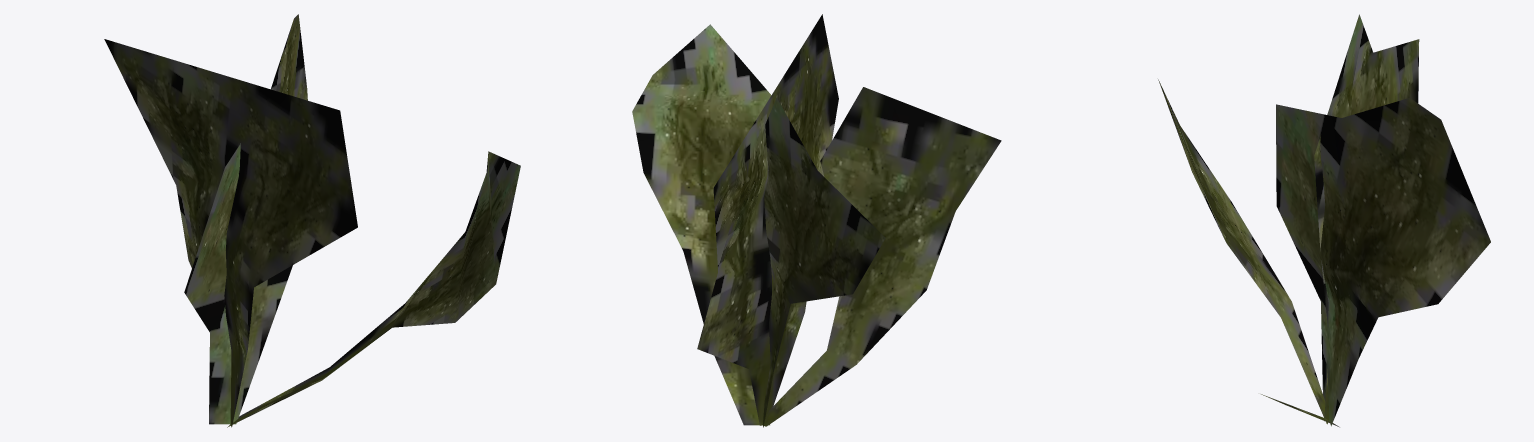
The model's file is Seaweed_B2-transformed.glb.
3 views of the same model, side by side, from view 1: azimuth 30°, elevation 25°; view 2: azimuth 150°, elevation 25°; view 3: azimuth 270°, elevation 25° (orthographic). The views are drawn at different scales.
Parts seen in each view (by area): view 1: Seaweed_B2; view 2: Seaweed_B2; view 3: Seaweed_B2.
Part boxes in pixels (x1,y1,x2,y2): Seaweed_B2: [104, 14, 520, 427]; Seaweed_B2: [632, 14, 1001, 427]; Seaweed_B2: [1158, 14, 1490, 427].
Size of the model in its own units: 0.3269 by 0.3139 by 0.3505.
1 material, 1 textured.
